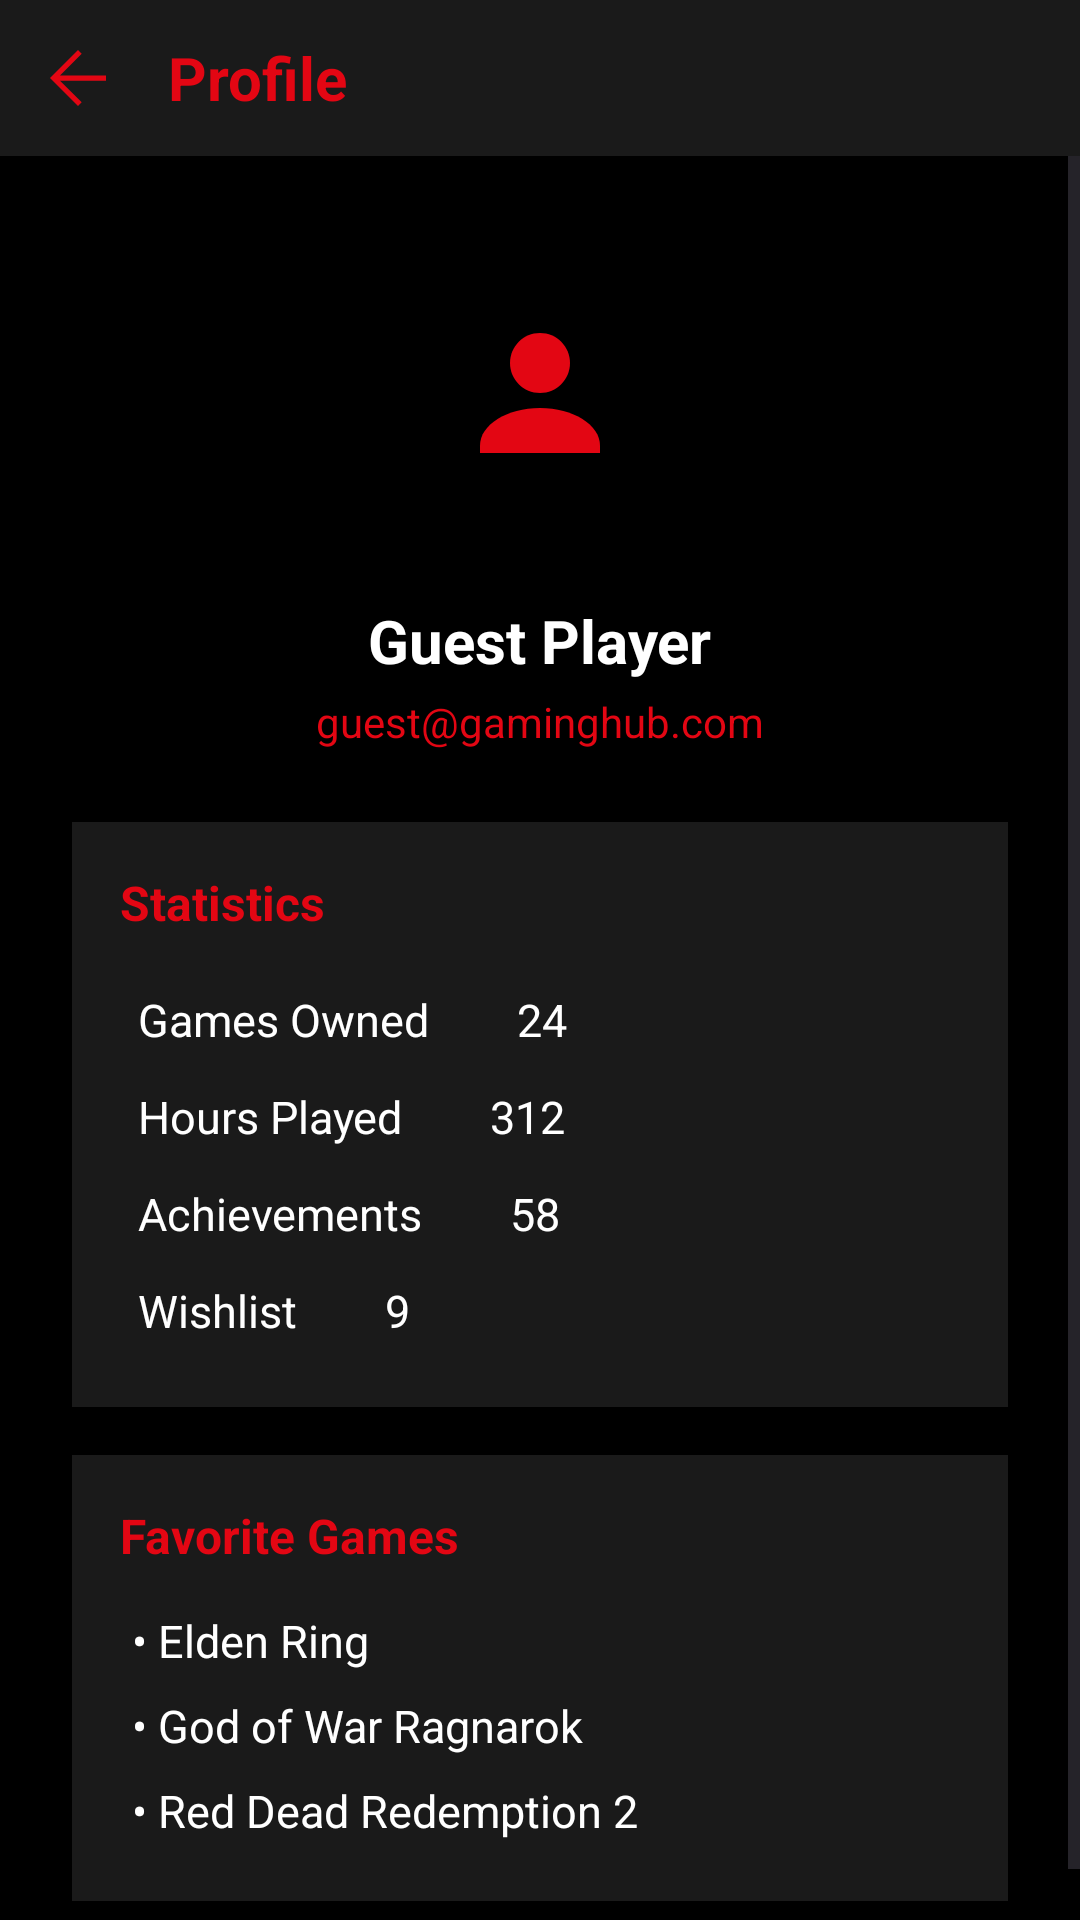

Icon click points for this 1080px x 1920px phone screenshot, format point (x, y):
Back: point (78, 78)
